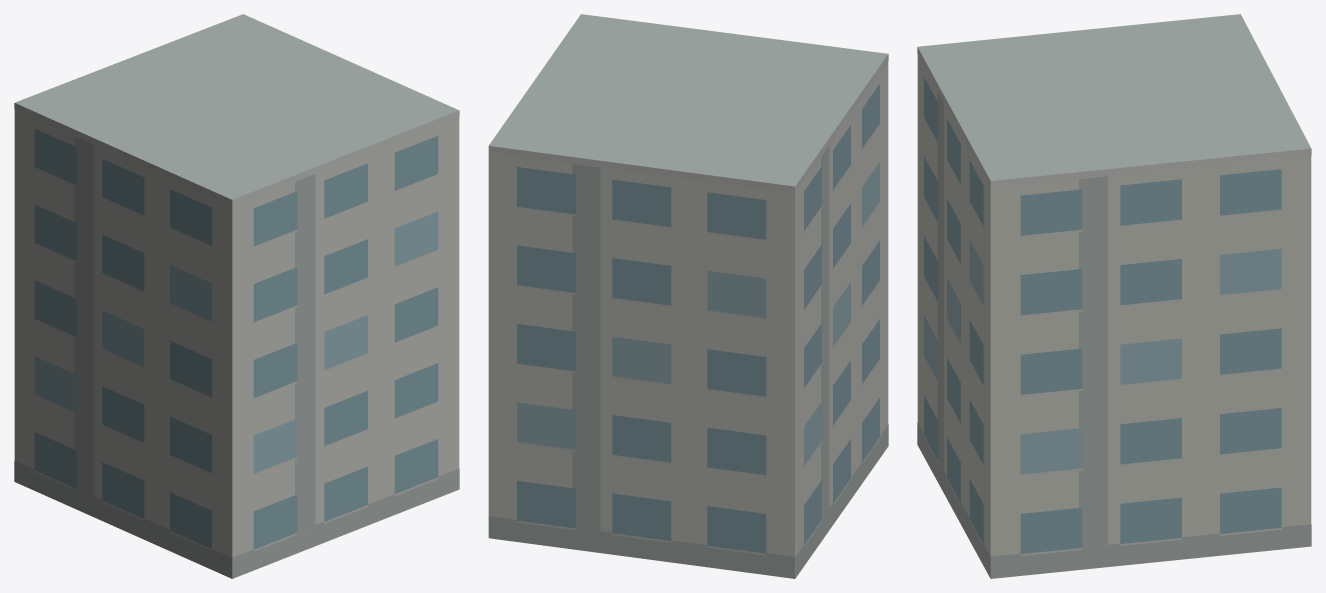
File: survey-upis-32807405.glb
3 renders of one model, left to right at view 1: azimuth 30°, elevation 25°; view 2: azimuth 150°, elevation 25°; view 3: azimuth 270°, elevation 25°, orthographic. The views are drawn at different scales.
Visible parts, largest first — view 1: survey-upis-32807405.tmp; view 2: survey-upis-32807405.tmp; view 3: survey-upis-32807405.tmp.
Boxes of the visible parts, box(x1,y1,x2,y2) form: survey-upis-32807405.tmp: box(14, 14, 459, 578); survey-upis-32807405.tmp: box(488, 14, 888, 578); survey-upis-32807405.tmp: box(917, 14, 1311, 578).
Bounding box in the file's own units: 12.34 × 13.7 × 12.31.
